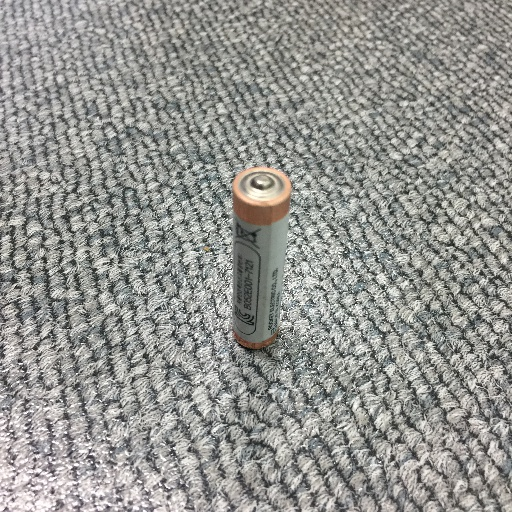Battery_0: (228, 165, 299, 359)
